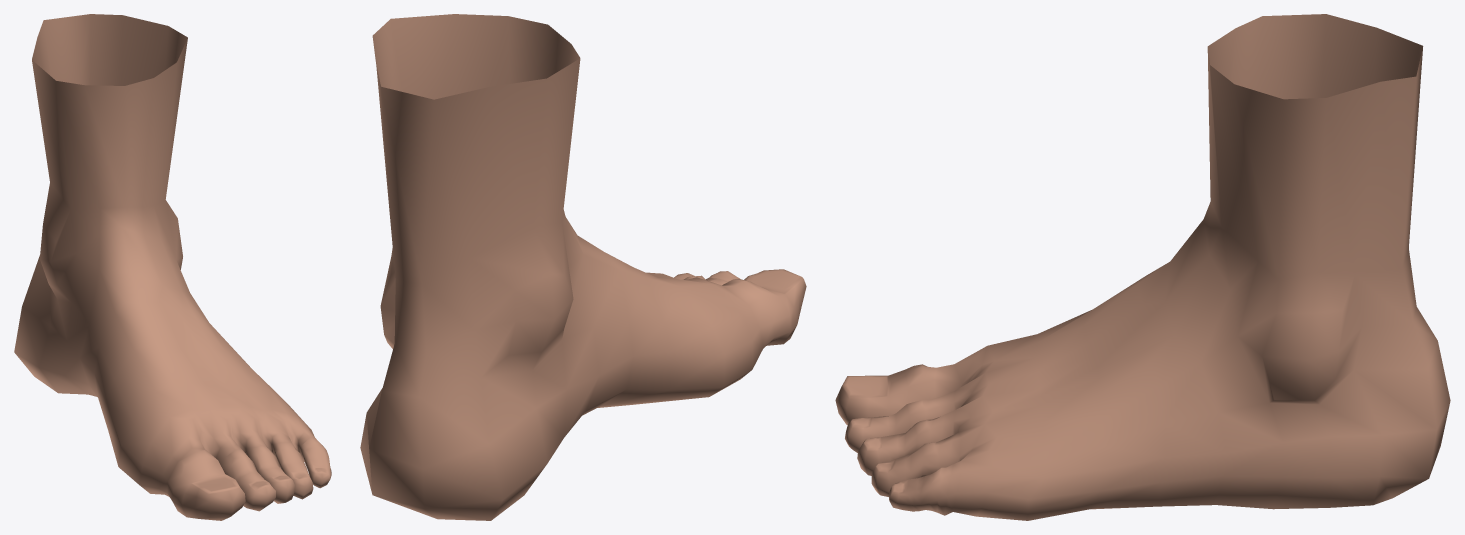
File: human-foot-hires.glb
3 views of the same model, side by side, from view 1: azimuth 30°, elevation 25°; view 2: azimuth 150°, elevation 25°; view 3: azimuth 270°, elevation 25° (orthographic). The views are drawn at different scales.
Parts seen in each view (by area): view 1: Cube;hires; view 2: Cube;hires; view 3: Cube;hires.
Part boxes in pixels (x1=…): Cube;hires: x1=14, y1=14, x2=331, y2=520; Cube;hires: x1=360, y1=14, x2=806, y2=520; Cube;hires: x1=835, y1=14, x2=1450, y2=520.
Size of the model in its own units: 0.4058 by 0.746 by 0.9583.
